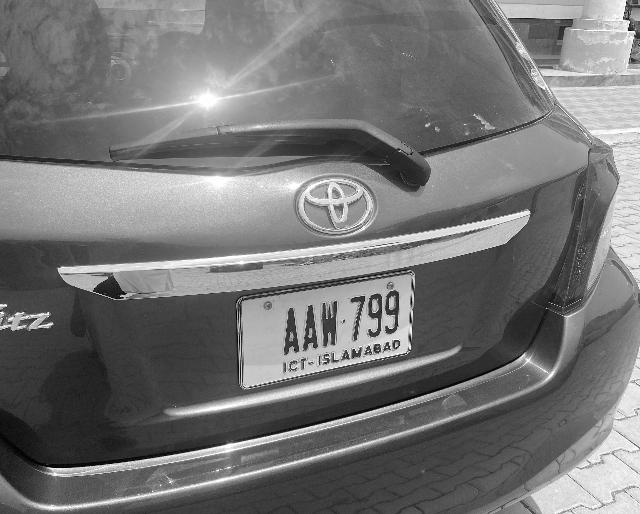Number: (281, 280, 403, 362)
